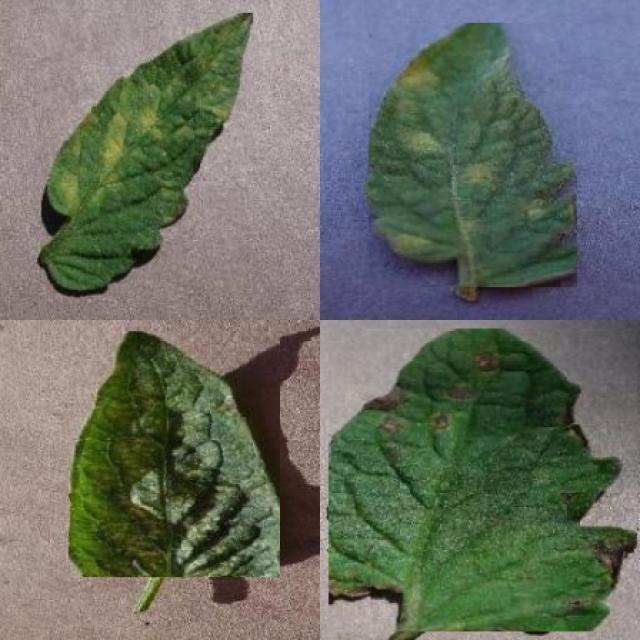Early Blight: (328, 328, 638, 632)
Leaf Mold: (41, 13, 253, 294), (369, 23, 577, 287)
Spider Mites: (69, 330, 280, 577)
